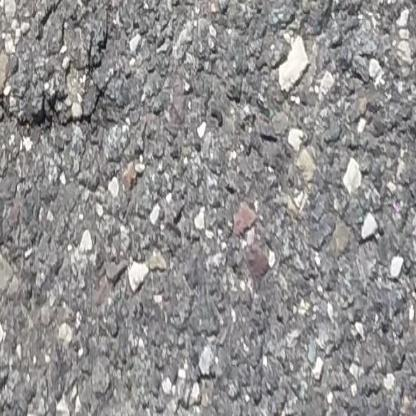Cracks: (50, 0, 143, 84), (0, 80, 112, 136)
